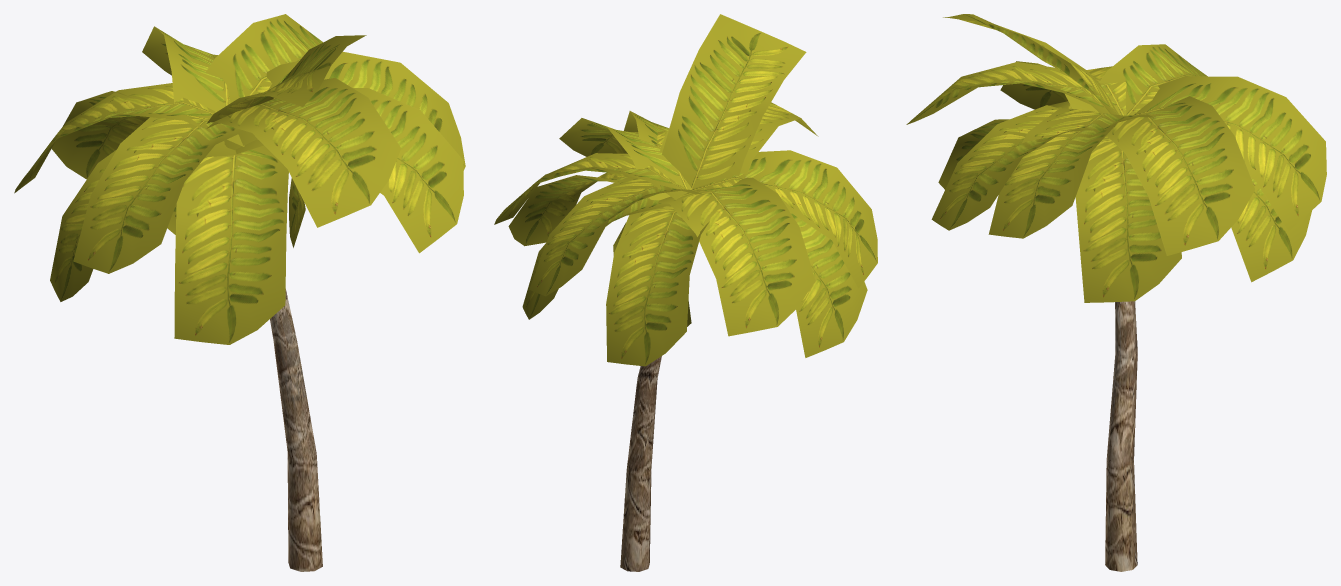
Rendered from palmTree.obj.
3 renders of one model, left to right at view 1: azimuth 30°, elevation 25°; view 2: azimuth 150°, elevation 25°; view 3: azimuth 270°, elevation 25°, orthographic. The views are drawn at different scales.
Parts seen in each view (by area): view 1: palmTree_01; view 2: palmTree_01; view 3: palmTree_01.
Boxes of the visible parts, x1,y1,x2,y2 form: palmTree_01: [14, 14, 465, 571]; palmTree_01: [494, 14, 877, 571]; palmTree_01: [906, 14, 1326, 571].
Size of the model in its own units: 108 by 166 by 118.
Materials: 2 (2 with a texture image).
